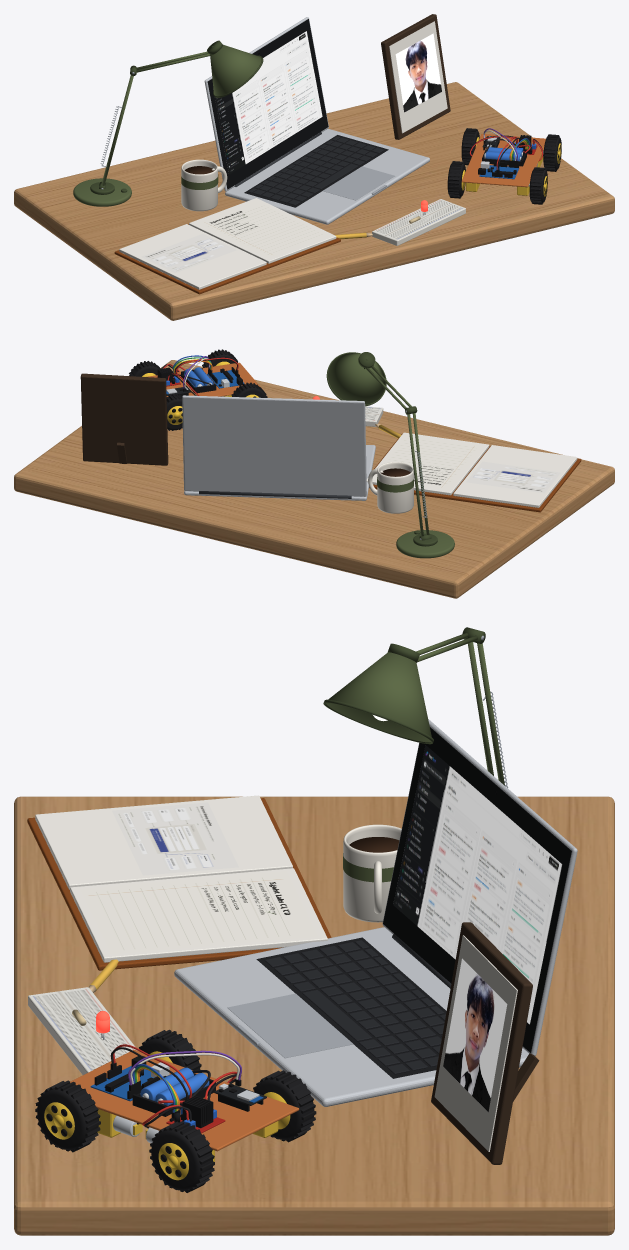
Rendered from desk.glb.
3 renders of one model, top to bottom at view 1: azimuth 30°, elevation 25°; view 2: azimuth 150°, elevation 25°; view 3: azimuth 270°, elevation 25°, orthographic. The views are drawn at different scales.
Parts seen in each view (by area): view 1: Desk, Laptop_screen, Laptop_base, Notebook_notes, Laptop_keys, Notebook_page_L, Laptop_bezel, Frame_photo, Frame_mat, Laptop_well, Notebook_cicd, Frame_wood (+10 smaller); view 2: Desk, Laptop_lid, Frame_wood, Notebook_page_L, Notebook_notes, Lamp_shade, Notebook_cicd, Mug_body, Lamp_base, Notebook_cover, Notebook_page_R, Car_plate (+4 smaller); view 3: Desk, Laptop_screen, Notebook_notes, Laptop_base, Laptop_keys, Notebook_page_L, Laptop_bezel, Notebook_cicd, Frame_photo, Lamp_shade, Frame_wood, Frame_mat (+16 smaller).
Boxes of the visible parts, box(x1,y1,x2,y2) form: Desk: box(14, 82, 614, 320); Laptop_screen: box(213, 31, 322, 174); Laptop_base: box(225, 128, 429, 224); Notebook_notes: box(195, 200, 330, 258); Laptop_keys: box(248, 136, 383, 205); Notebook_page_L: box(119, 224, 266, 289); Laptop_bezel: box(207, 19, 328, 189); Frame_photo: box(395, 33, 441, 112); Frame_mat: box(389, 21, 447, 133); Laptop_well: box(244, 135, 388, 207); Notebook_cicd: box(141, 233, 236, 273); Frame_wood: box(381, 14, 450, 139); Desk: box(14, 360, 614, 598); Laptop_lid: box(182, 395, 366, 496); Frame_wood: box(80, 373, 168, 465); Notebook_page_L: box(453, 445, 577, 507); Notebook_notes: box(372, 434, 483, 490); Lamp_shade: box(328, 353, 385, 404); Notebook_cicd: box(466, 461, 560, 493); Mug_body: box(377, 462, 413, 513); Lamp_base: box(396, 530, 454, 558); Notebook_cover: box(369, 433, 581, 512); Notebook_page_R: box(366, 432, 489, 495); Car_plate: box(146, 362, 260, 396); Desk: box(14, 796, 614, 1235); Laptop_screen: box(393, 745, 562, 1024); Notebook_notes: box(80, 871, 317, 953); Laptop_base: box(174, 927, 528, 1106); Laptop_keys: box(265, 940, 445, 1074); Notebook_page_L: box(35, 795, 292, 889); Laptop_bezel: box(383, 727, 571, 1052); Notebook_cicd: box(112, 802, 238, 875); Frame_photo: box(443, 958, 507, 1112); Lamp_shade: box(326, 652, 431, 742); Frame_wood: box(431, 922, 532, 1164); Frame_mat: box(434, 935, 517, 1151).
Size of the model in its own units: 8.4 by 3.07 by 5.2.
Materials: 55 (6 with a texture image).
